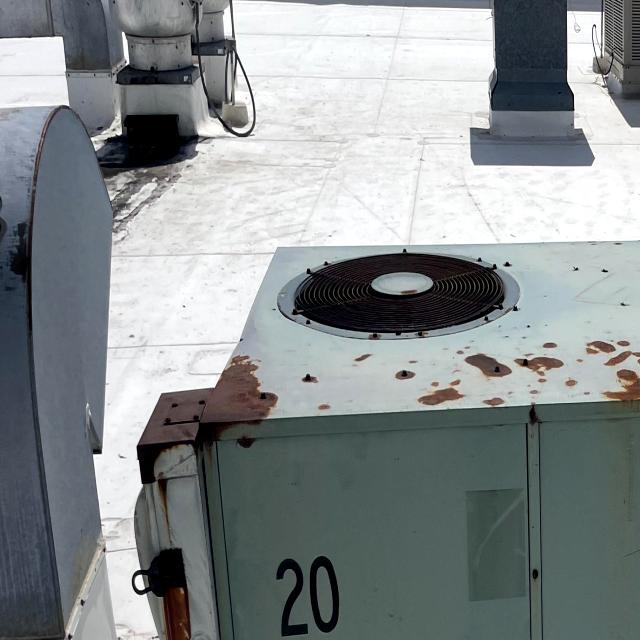GRAVITY-VENT: (110, 0, 213, 128), (190, 0, 240, 115)
RTU: (129, 235, 640, 640)
SPLIT-SYSTEM: (590, 0, 640, 117)
